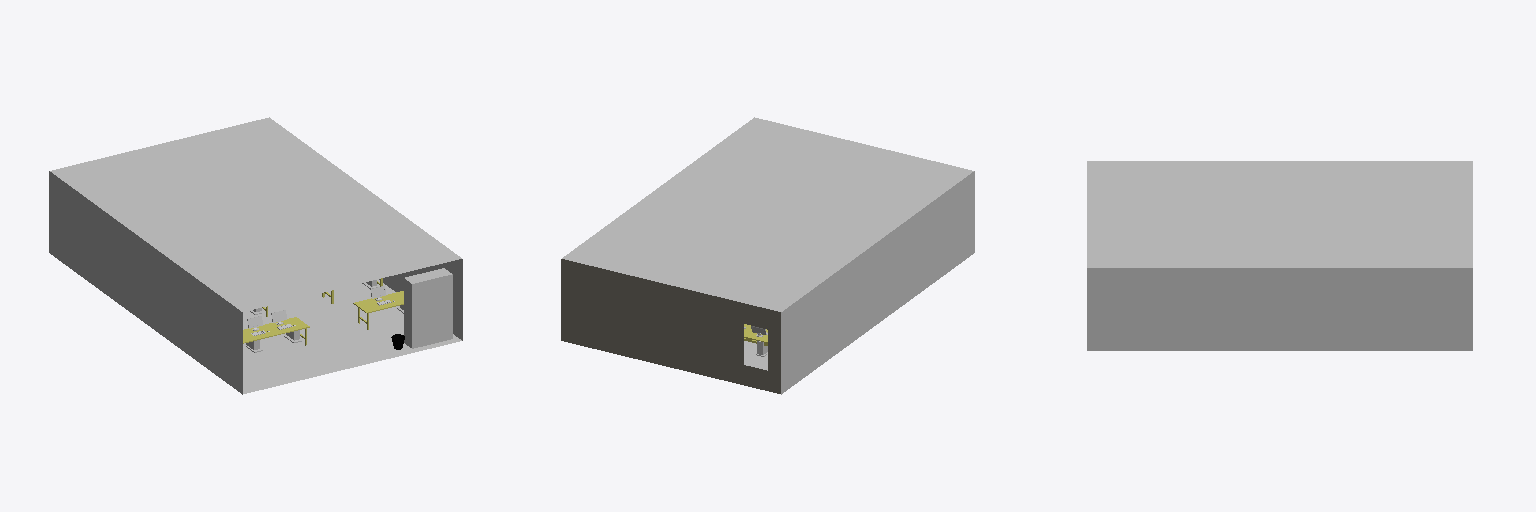
File: classroom.obj
The picture shows the model from 3 angles: view 1: azimuth 30°, elevation 25°; view 2: azimuth 150°, elevation 25°; view 3: azimuth 270°, elevation 25°; orthographic projection.
Visible parts, largest first — view 1: ClassroomFloor.005_Plane.032, ClassroomFloor.001_Plane.028, ClassroomFloor_Plane.026, Cube.028_Cube.028, ClassroomFloor.002_Plane.029, Cube.015_Cube.015, Cube.041_Cube.029; view 2: ClassroomFloor.005_Plane.032, ClassroomFloor.003_Plane.030, ClassroomFloor.001_Plane.028; view 3: ClassroomFloor.005_Plane.032, ClassroomFloor.002_Plane.029.
Boxes of the visible parts, x1=… form: ClassroomFloor.005_Plane.032: x1=50, y1=117, x2=461, y2=311; ClassroomFloor.001_Plane.028: x1=49, y1=171, x2=242, y2=394; ClassroomFloor_Plane.026: x1=243, y1=279, x2=461, y2=393; Cube.028_Cube.028: x1=404, y1=268, x2=452, y2=348; ClassroomFloor.002_Plane.029: x1=379, y1=259, x2=462, y2=340; Cube.015_Cube.015: x1=243, y1=317, x2=309, y2=345; Cube.041_Cube.029: x1=353, y1=291, x2=403, y2=329; ClassroomFloor.005_Plane.032: x1=562, y1=117, x2=973, y2=311; ClassroomFloor.003_Plane.030: x1=561, y1=259, x2=780, y2=393; ClassroomFloor.001_Plane.028: x1=781, y1=171, x2=974, y2=394; ClassroomFloor.005_Plane.032: x1=1087, y1=161, x2=1472, y2=267; ClassroomFloor.002_Plane.029: x1=1087, y1=268, x2=1472, y2=350.
Size of the model in its own units: 7.57 by 2.71 by 11.51.